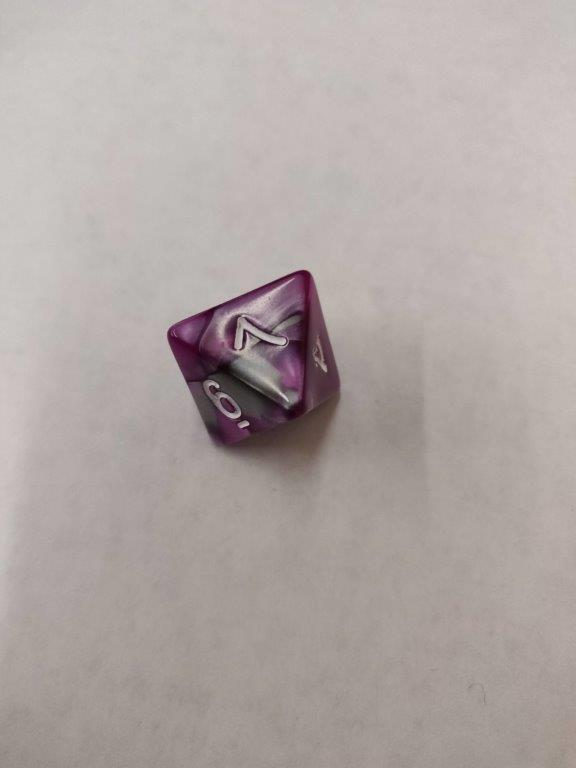d8-7: (165, 270, 343, 449)
